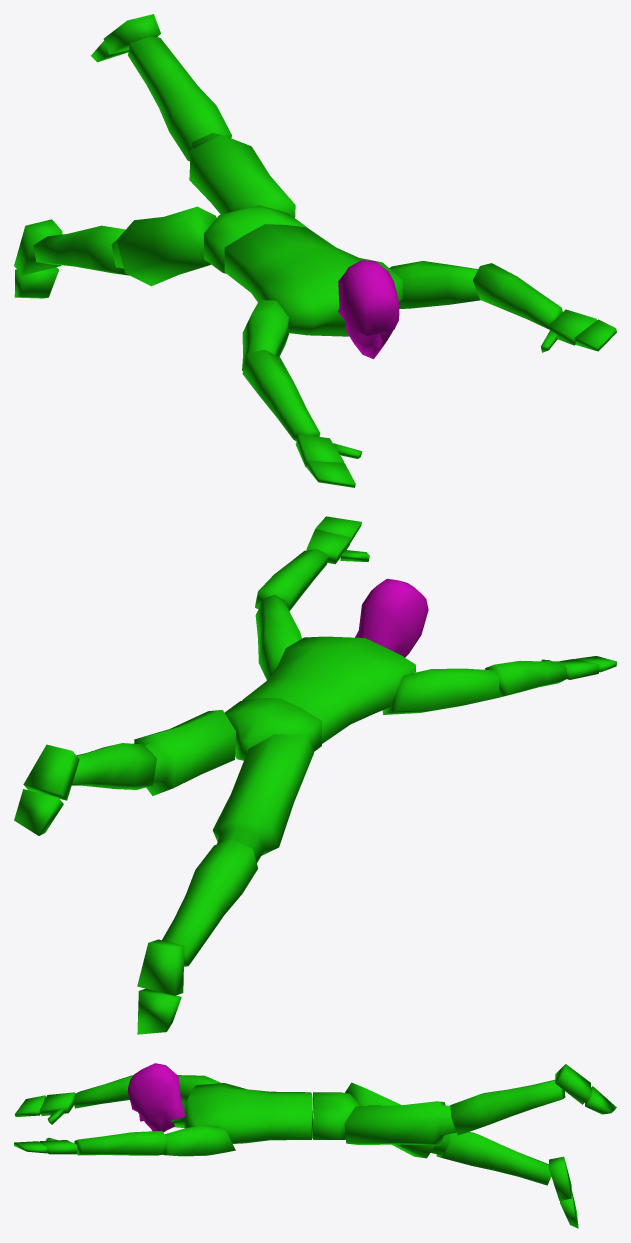
Rendered from UnderwaterSwimmingCharacter.FBX.
3 renders of one model, top to bottom at view 1: azimuth 30°, elevation 25°; view 2: azimuth 150°, elevation 25°; view 3: azimuth 270°, elevation 25°, orthographic. The views are drawn at different scales.
Visible parts, largest first — view 1: Body, Head; view 2: Body, Head; view 3: Body, Head.
Part boxes in pixels (x1,y1,x2,y2): Body: (14, 14, 616, 487); Head: (338, 260, 399, 359); Body: (14, 516, 616, 1034); Head: (355, 578, 428, 657); Body: (14, 1064, 616, 1228); Head: (127, 1063, 185, 1132).
Size of the model in its own units: 1.02 by 0.8667 by 2.47.
